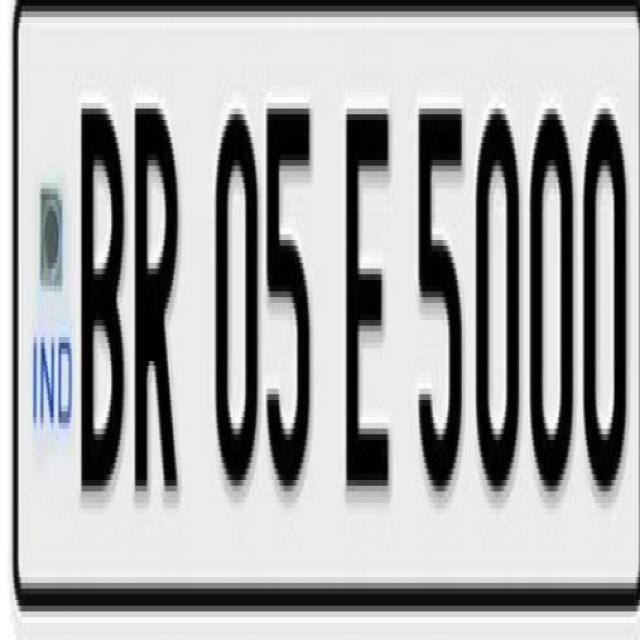0: (471, 89, 524, 510), (209, 80, 261, 503), (579, 90, 633, 490), (526, 91, 576, 512)
5: (262, 74, 318, 503), (414, 80, 466, 510)
B: (77, 80, 126, 490)
E: (339, 64, 394, 504)
R: (130, 80, 184, 510)
